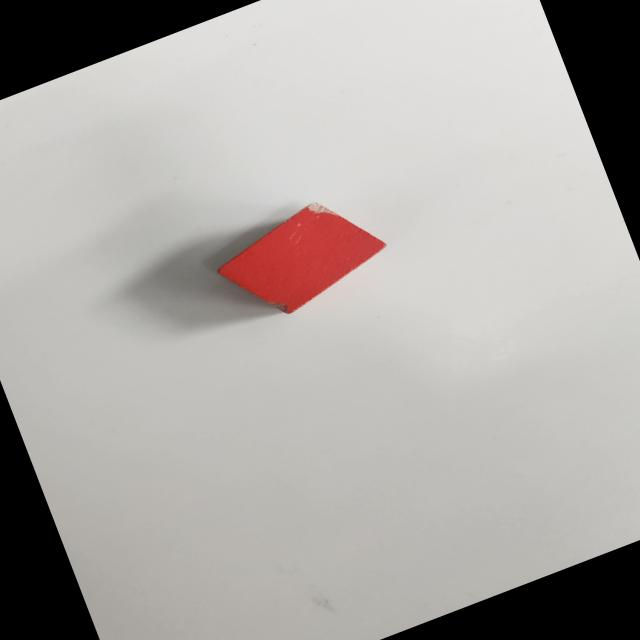broken: (208, 184, 396, 332)
